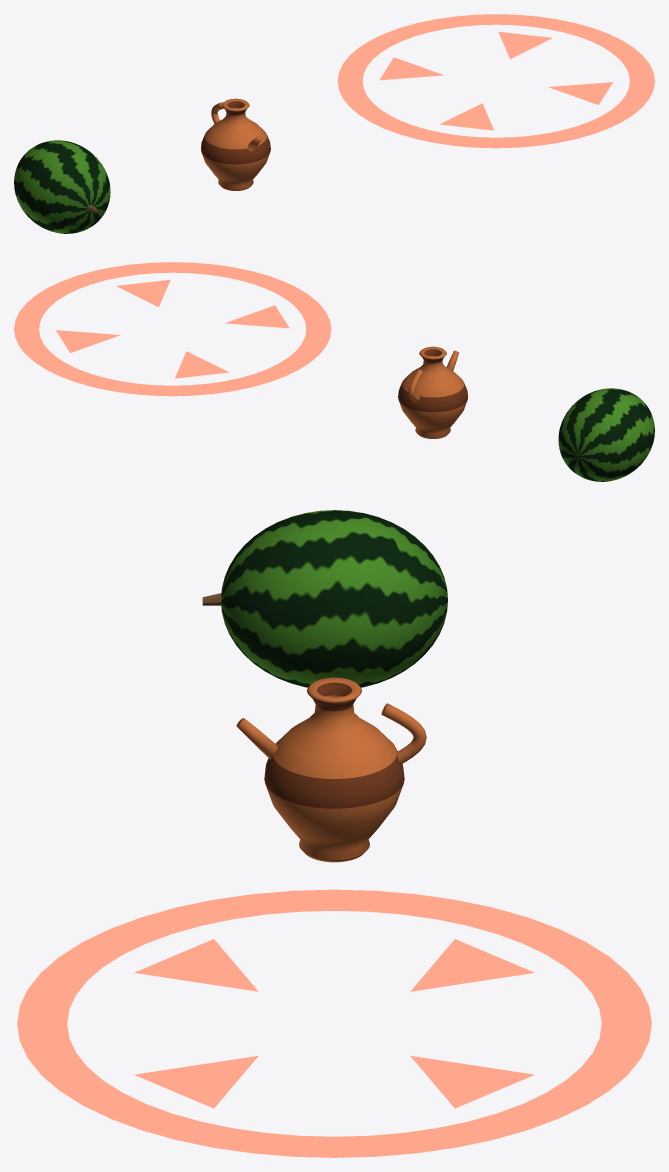
File: Throwables.fbx
3 renders of one model, top to bottom at view 1: azimuth 30°, elevation 25°; view 2: azimuth 150°, elevation 25°; view 3: azimuth 270°, elevation 25°, orthographic. The views are drawn at different scales.
Visible parts, largest first — view 1: LandingMarker, Karpuz, Testi; view 2: LandingMarker, Karpuz, Testi; view 3: LandingMarker, Karpuz, Testi.
Boxes of the visible parts, x1,y1,x2,y2 form: LandingMarker: [337, 14, 654, 148]; Karpuz: [14, 140, 110, 233]; Testi: [201, 98, 270, 190]; LandingMarker: [14, 262, 331, 396]; Karpuz: [558, 388, 654, 481]; Testi: [398, 346, 467, 438]; LandingMarker: [17, 889, 651, 1157]; Karpuz: [202, 510, 447, 687]; Testi: [236, 677, 426, 862].
Bounding box in the file's own units: 4.22 × 0.54 × 1.9.
5 materials, 1 textured.
